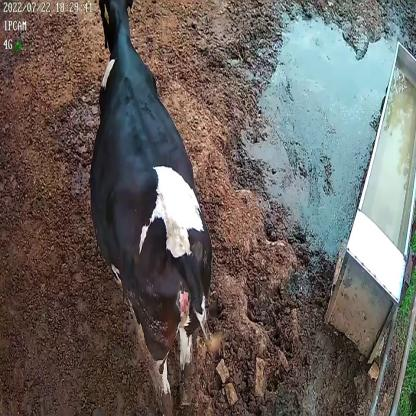cow: (89, 0, 225, 414)
